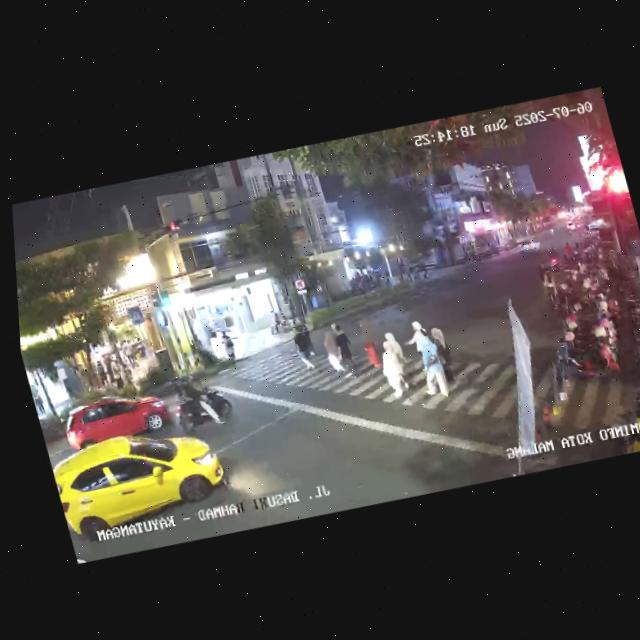car: (46, 417, 242, 553), (52, 384, 175, 451), (513, 234, 543, 257)
motorcycle: (163, 373, 239, 438)
person: (411, 333, 450, 398), (379, 339, 411, 400), (329, 322, 361, 379), (429, 324, 456, 383), (355, 316, 385, 368), (397, 318, 434, 359), (289, 326, 319, 373), (537, 266, 563, 312), (320, 327, 344, 375), (383, 329, 406, 369), (220, 328, 240, 363), (108, 356, 125, 389), (95, 356, 111, 386), (121, 339, 137, 368), (31, 390, 46, 416)
